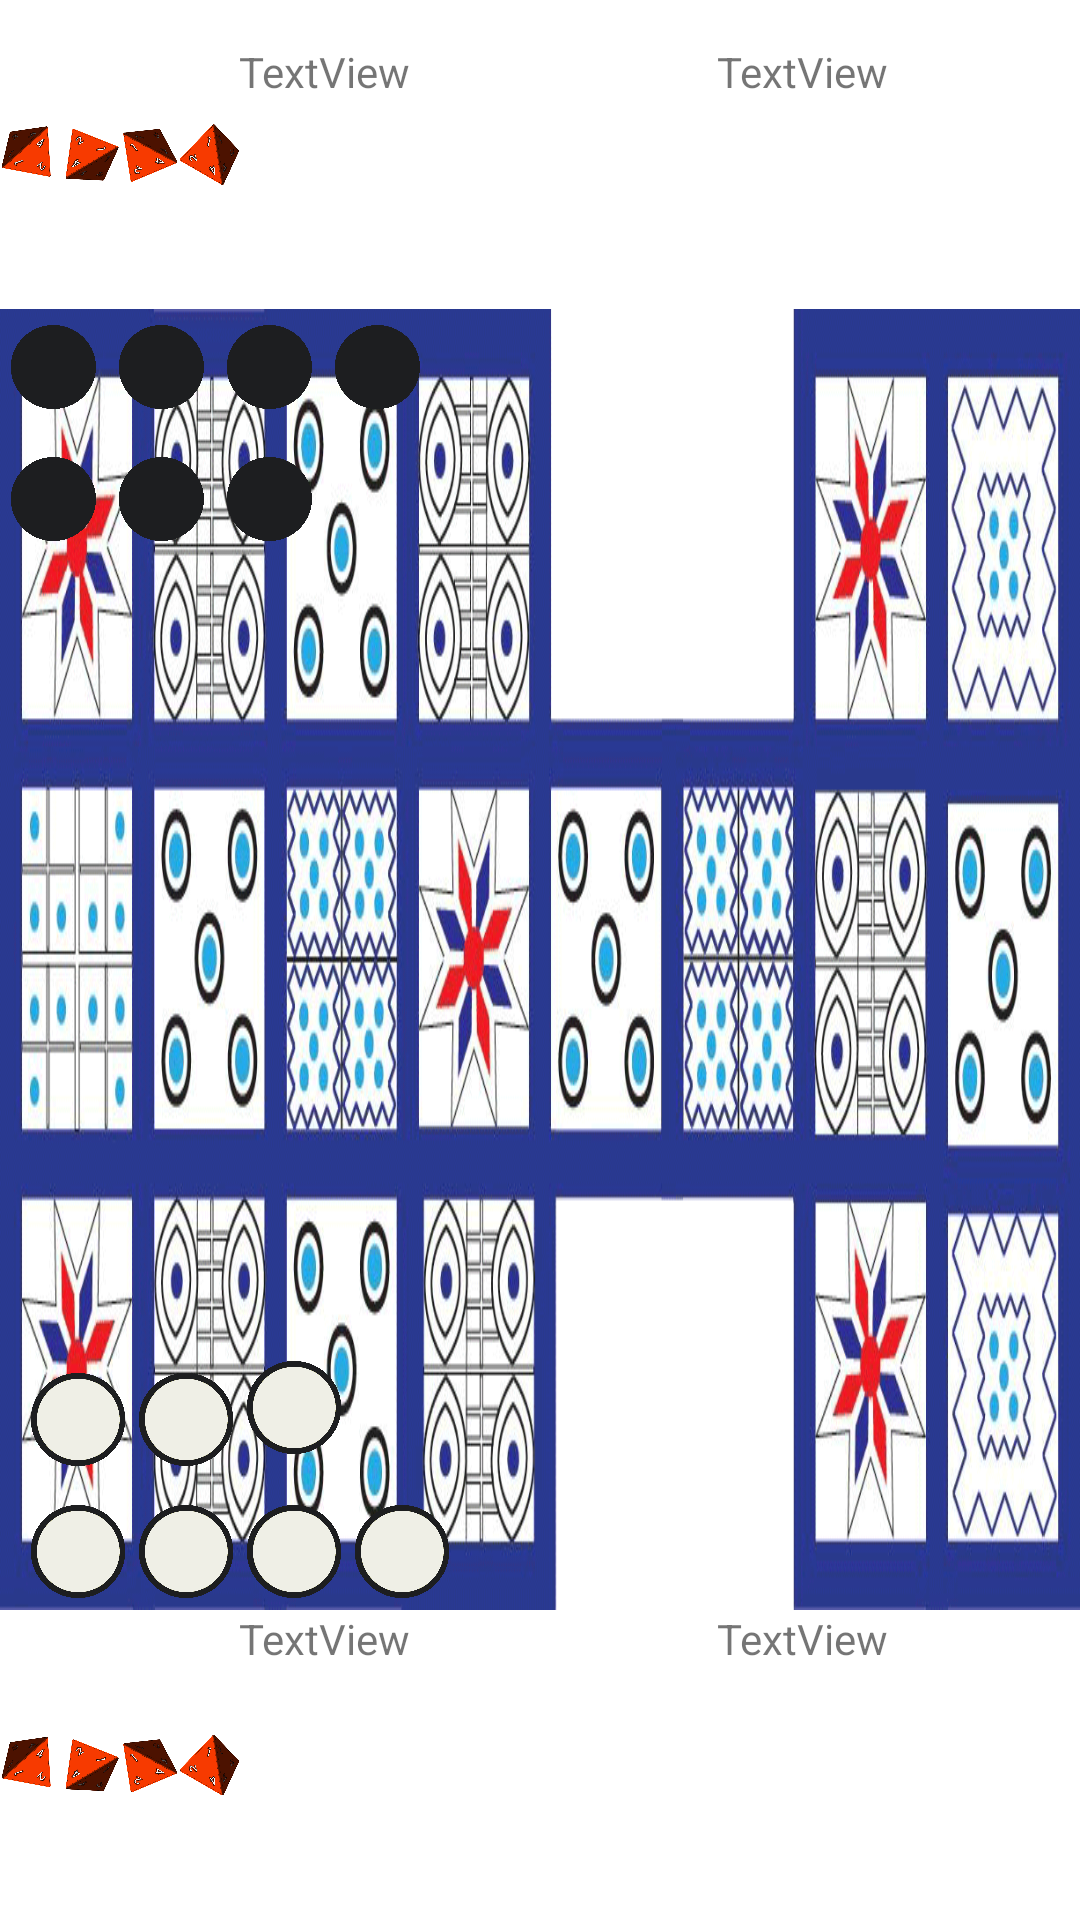

Named icons in this screenshot (1080 x 1920) and their centers, (x,y):
dices: (120,154), (120,1765)
